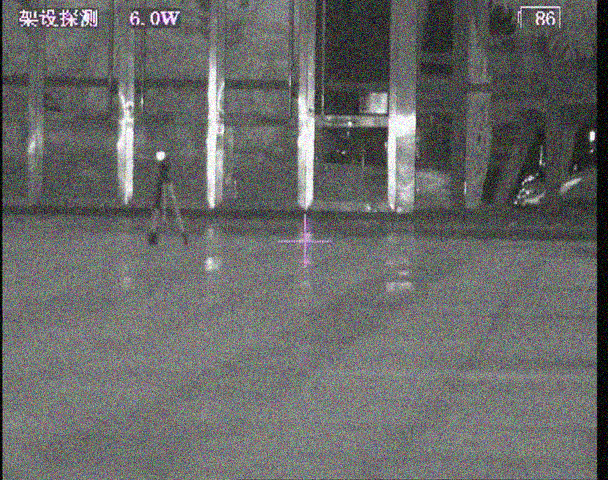my: (155, 151, 165, 161)
